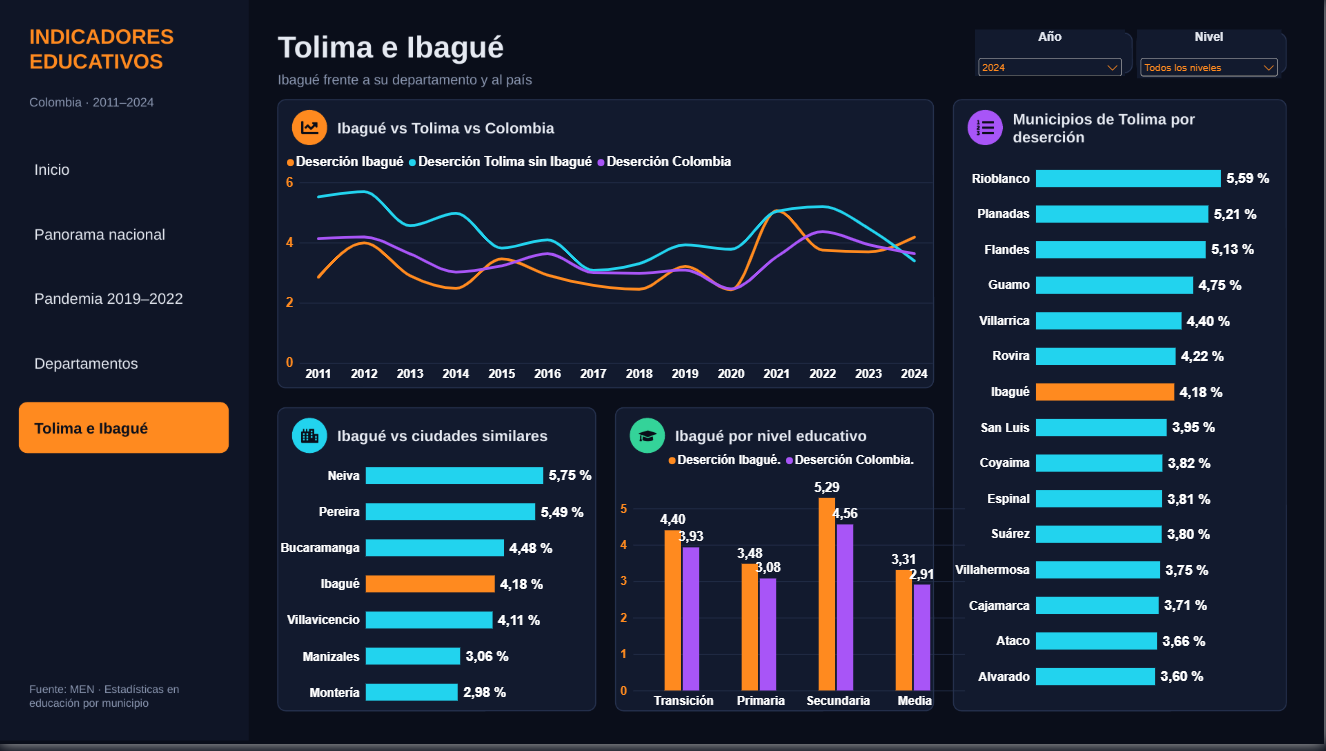

The page's visual inventory and layout, read from the dashboard file:
{"tool":"powerbi","page":{"name":"Tolima e Ibague","canvas":[1920,1080],"ordinal":4},"visuals":[{"type":"slicer","title":"Año","fields":{"Values":["Datos.AÑO"]},"box":[1412.5,45,217.5,67.5],"z":0},{"type":"slicer","title":"Nivel","fields":{"Values":["Niveles.Nivel"]},"box":[1647.7,45.5,209.1,70.5],"z":1000},{"type":"actionButton","box":[32.5,195,307.5,90],"z":2000},{"type":"actionButton","box":[26.1,308.7,306.5,78.3],"z":3000},{"type":"actionButton","box":[26.1,387,306.5,93.5],"z":4000},{"type":"actionButton","box":[26.1,480.4,306.5,82.6],"z":5000},{"type":"lineChart","fields":{"Category":["Datos.AÑO"],"Y":["Datos.Deserción Ibagué","Datos.Deserción Tolima sin Ibagué","Datos.Deserción Colombia"]},"box":[397.5,207.5,970,367.5],"z":6000},{"type":"clusteredBarChart","fields":{"Category":["Datos.MUNICIPIO"],"Y":["Datos.Deserción %"]},"box":[390,637.5,485,420],"z":7000},{"type":"clusteredColumnChart","fields":{"Category":["NivelesGraf.Nivel"],"Y":["Datos.Deserción Ibagué por nivel","Datos.Deserción Colombia por nivel"]},"box":[881.9,639.9,532,421.8],"z":8000},{"type":"clusteredBarChart","fields":{"Category":["Datos.MUNICIPIO"],"Y":["Datos.Deserción %"]},"box":[1368.4,206.1,488.9,826.8],"z":9000}]}

Visuals, with their boxes in screenshot pixels (x1, y1, x2, y2), scaled from the page's 1920x1080 canvas onto the 1326x751 screenshot:
"Año" slicer: <bbox>976, 31, 1126, 78</bbox>
"Nivel" slicer: <bbox>1138, 32, 1282, 81</bbox>
actionButton: <bbox>22, 136, 235, 198</bbox>
actionButton: <bbox>18, 215, 230, 269</bbox>
actionButton: <bbox>18, 269, 230, 334</bbox>
actionButton: <bbox>18, 334, 230, 391</bbox>
lineChart - Datos.AÑO x Datos.Deserción Ibagué: <bbox>275, 144, 944, 400</bbox>
clusteredBarChart - Datos.MUNICIPIO x Datos.Deserción %: <bbox>269, 443, 604, 735</bbox>
clusteredColumnChart - NivelesGraf.Nivel x Datos.Deserción Ibagué por nivel: <bbox>609, 445, 976, 738</bbox>
clusteredBarChart - Datos.MUNICIPIO x Datos.Deserción %: <bbox>945, 143, 1283, 718</bbox>
